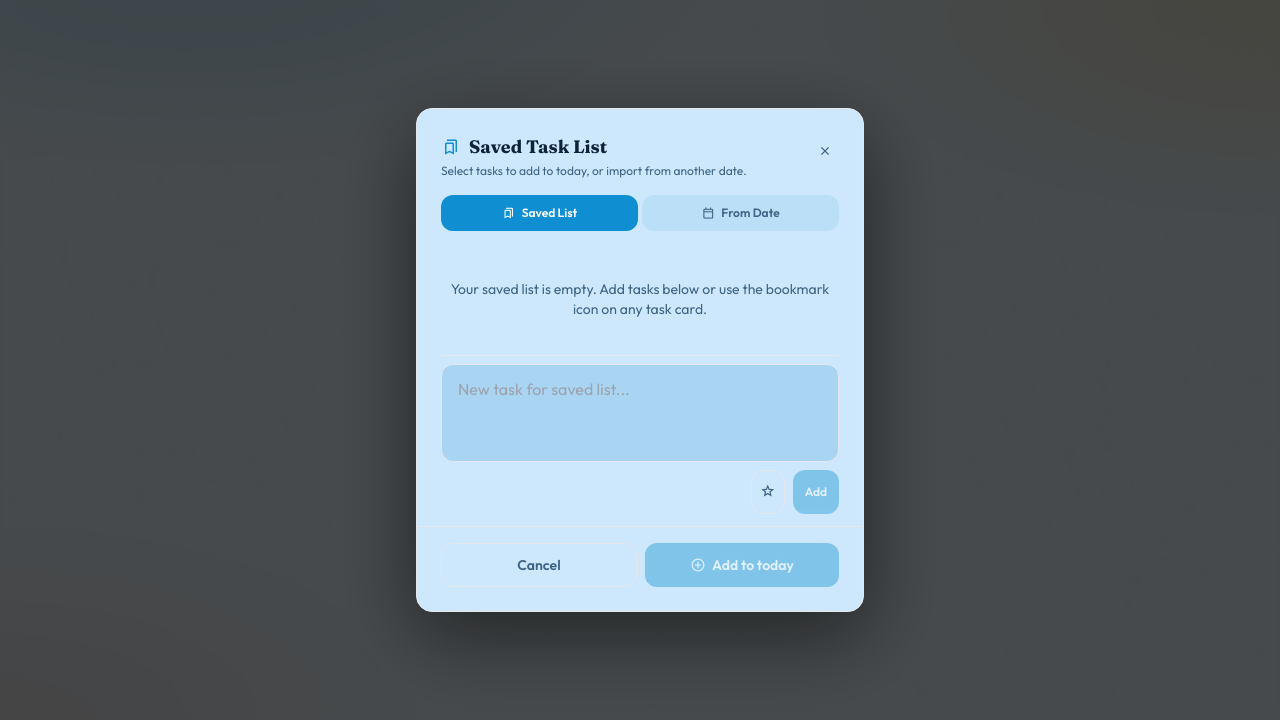
Scenario: date tab › switches to date tab when From Date is clicked
Click the button "From Date" at (740,213), box [642,195,839,231]
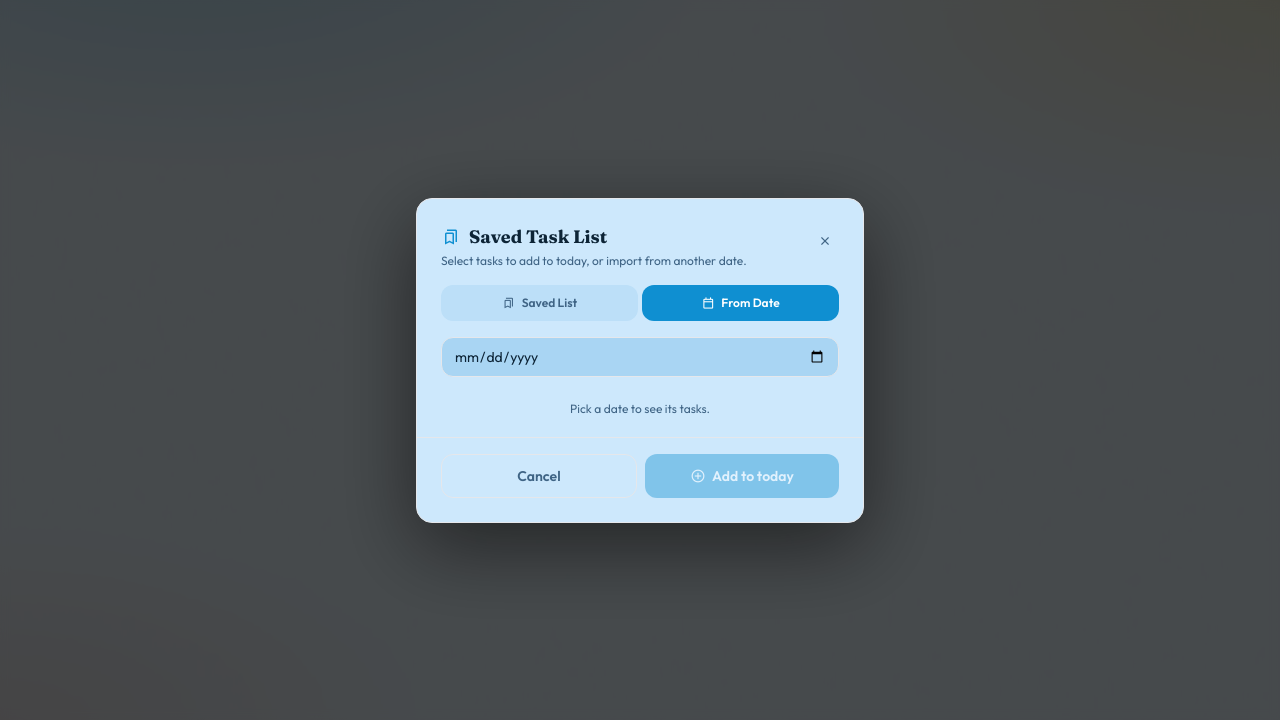
Expected: the text "Pick a date to see its tasks." is shown, [570,400,710,416]
